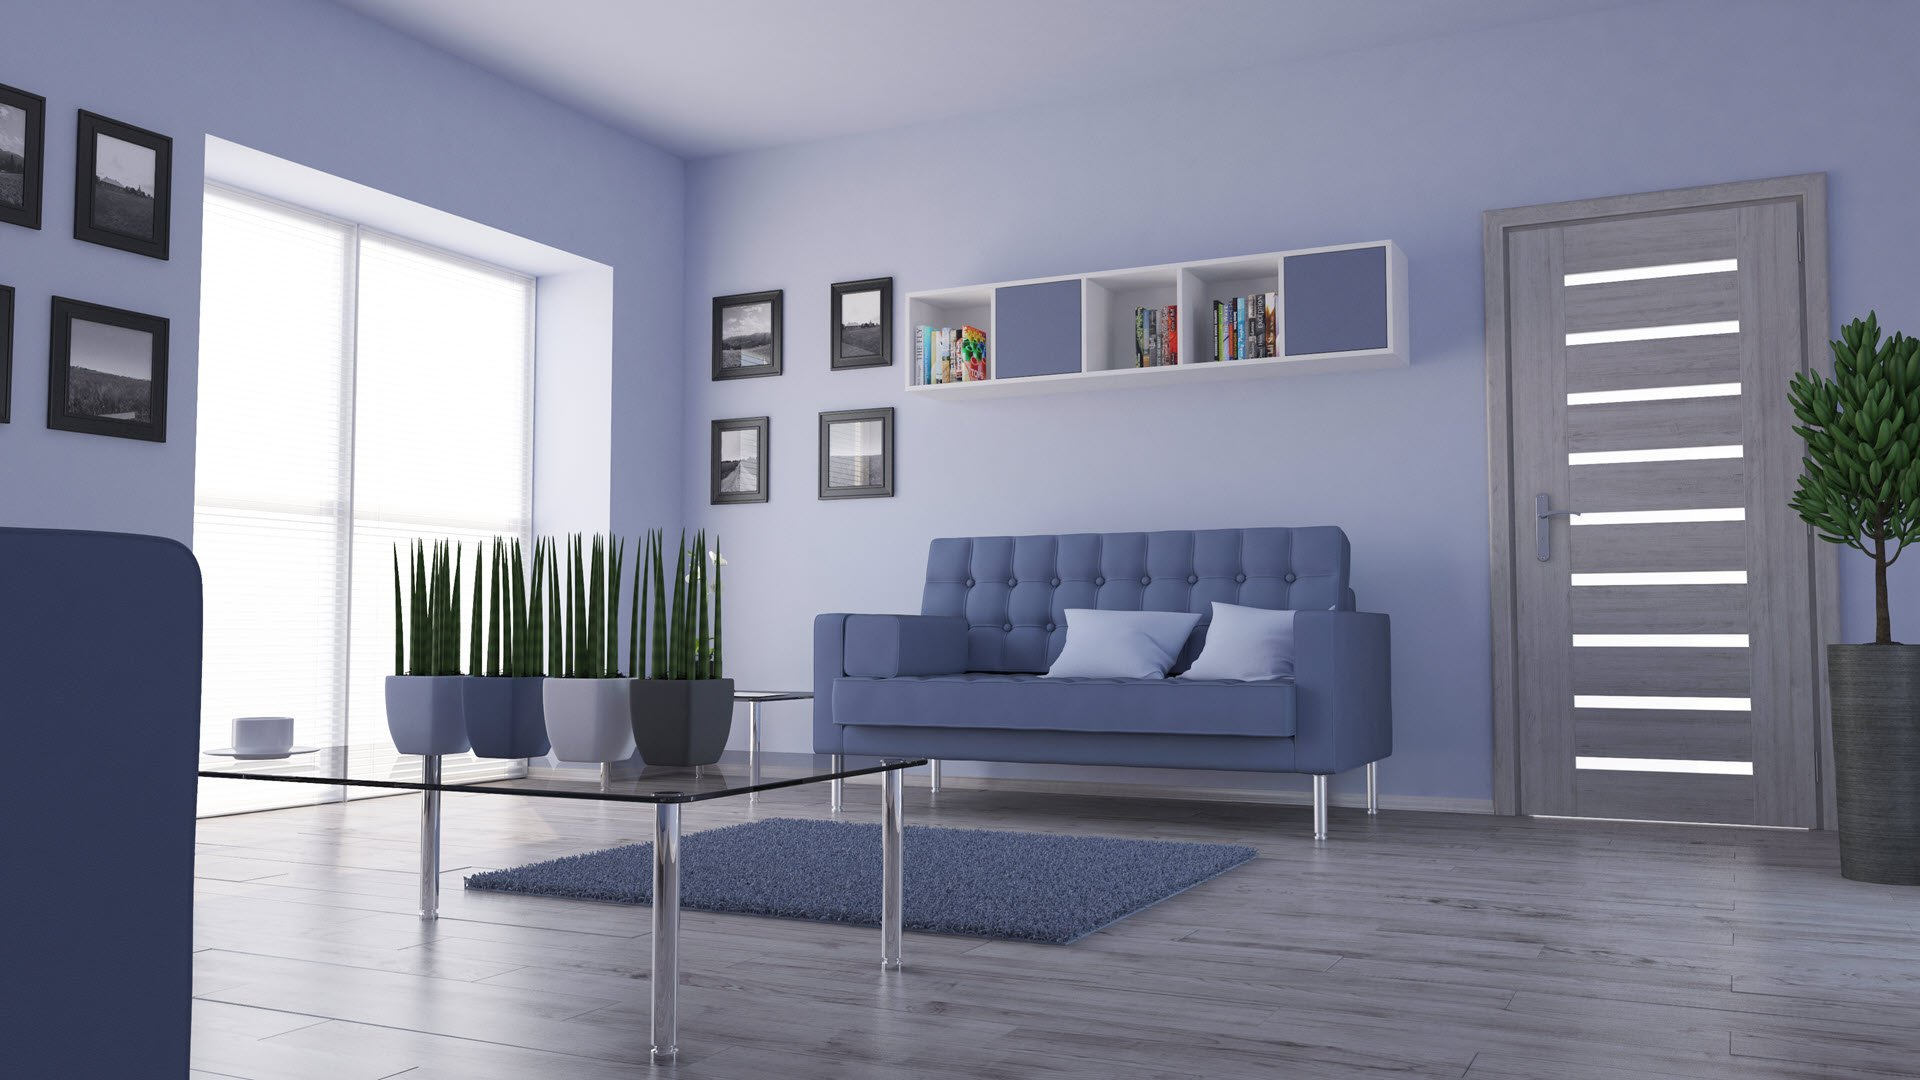large plant: (1778, 301, 1920, 893)
small plant: (634, 527, 738, 771), (381, 531, 472, 762), (550, 531, 632, 766), (472, 531, 550, 757)
sofa: (810, 522, 1403, 848)
table: (198, 744, 938, 1033)
wall art: (44, 290, 171, 444), (73, 107, 175, 261), (814, 404, 901, 505), (1, 76, 50, 229), (707, 287, 783, 382), (827, 272, 894, 375), (705, 414, 778, 506)
